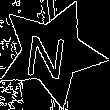N_N: (28, 26, 75, 80)
